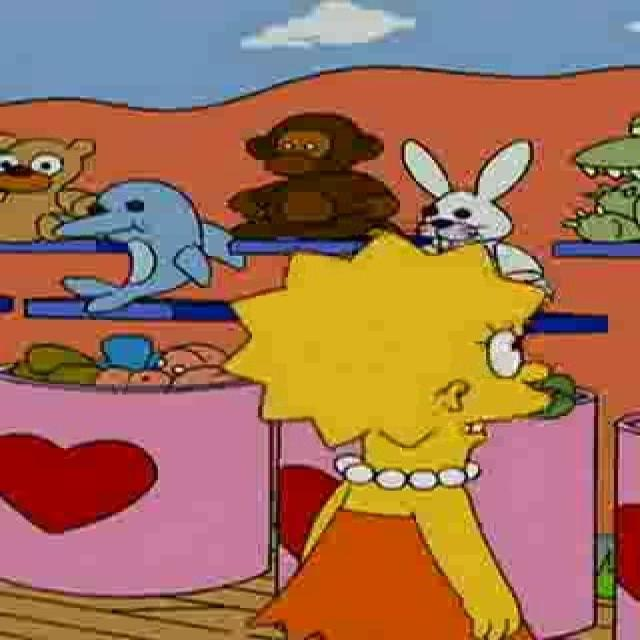Lisa Simpson: (224, 228, 552, 484)
